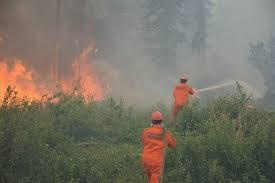fire: (0, 39, 109, 106)
